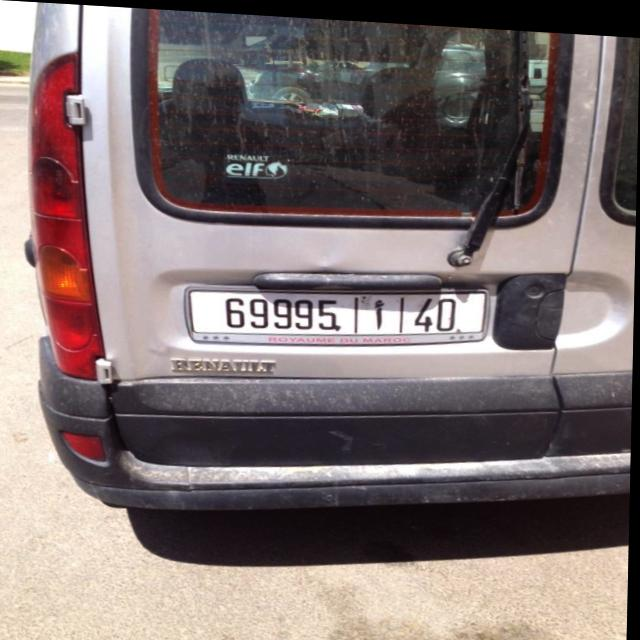License-Plate: (190, 285, 489, 341)
